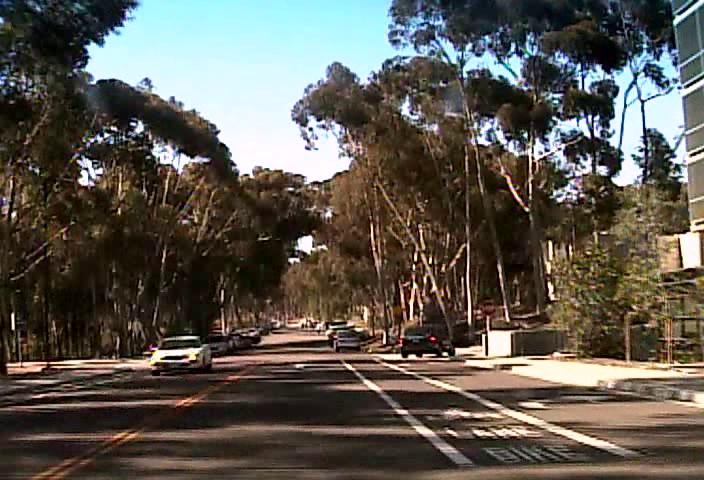stop: (480, 299, 496, 316)
